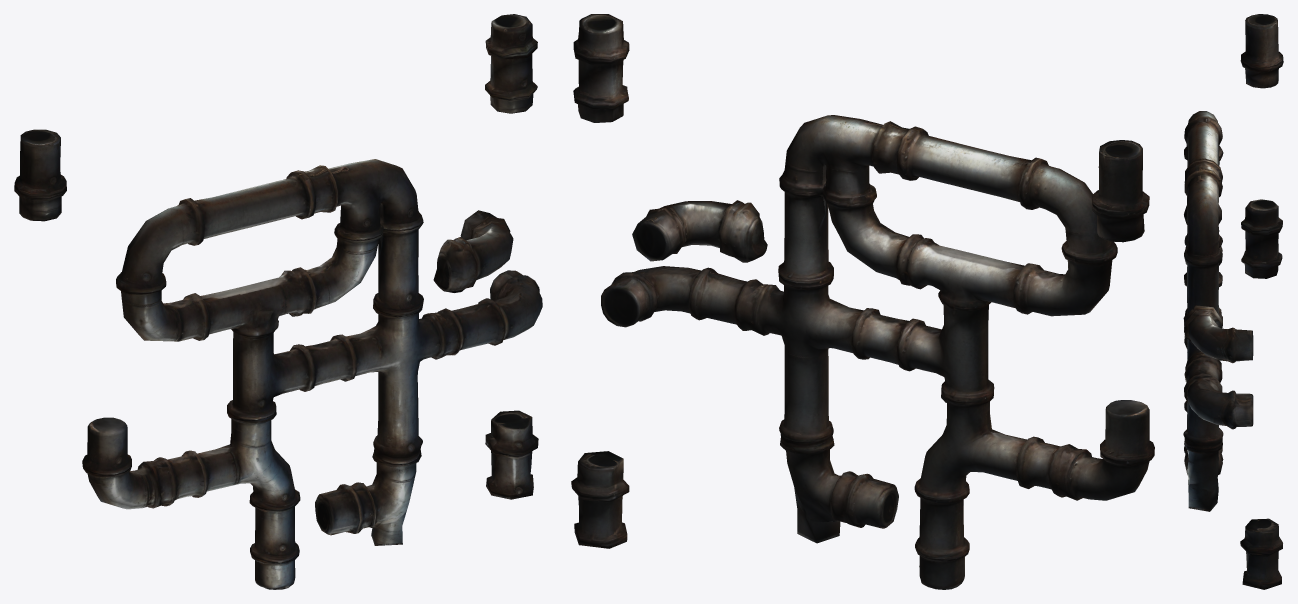
Rendered from Creepy_old_shining_pi_0124161528_texture.fbx.
3 views of the same model, side by side, from view 1: azimuth 30°, elevation 25°; view 2: azimuth 150°, elevation 25°; view 3: azimuth 270°, elevation 25° (orthographic). The views are drawn at different scales.
Visible parts, largest first — view 1: Mesh1_Mesh1.019; view 2: Mesh1_Mesh1.019; view 3: Mesh1_Mesh1.019.
Part boxes in pixels (<box>): Mesh1_Mesh1.019: <box>14,14,542,589</box>; Mesh1_Mesh1.019: <box>571,14,1154,589</box>; Mesh1_Mesh1.019: <box>1183,14,1283,589</box>.
Bounding box in the file's own units: 1155 × 1000 × 241.
Materials: 1 (1 with a texture image).
